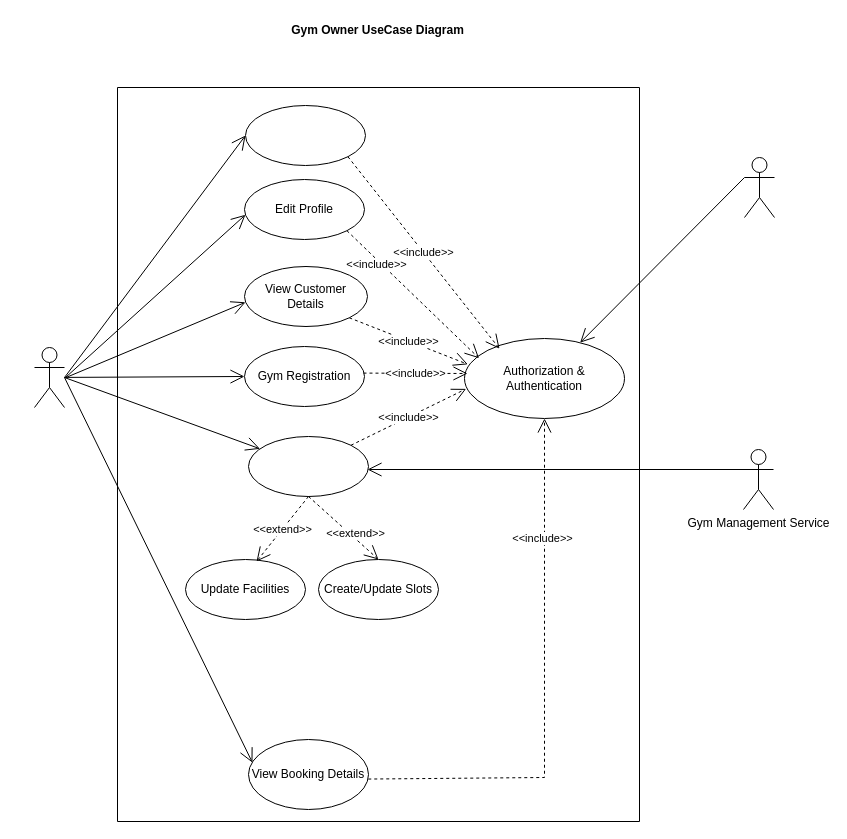
Some shapes in this 847 by 839 pixel diagram are drawn without their labels. Each missing label, with the centre of its shape:
"Authentication Service" belongs at [759,187].
"Gym Owner" belongs at [49,377].
"Manage Gym Profile" belongs at [308,466].
"Registration/Login" belongs at [305,135].
